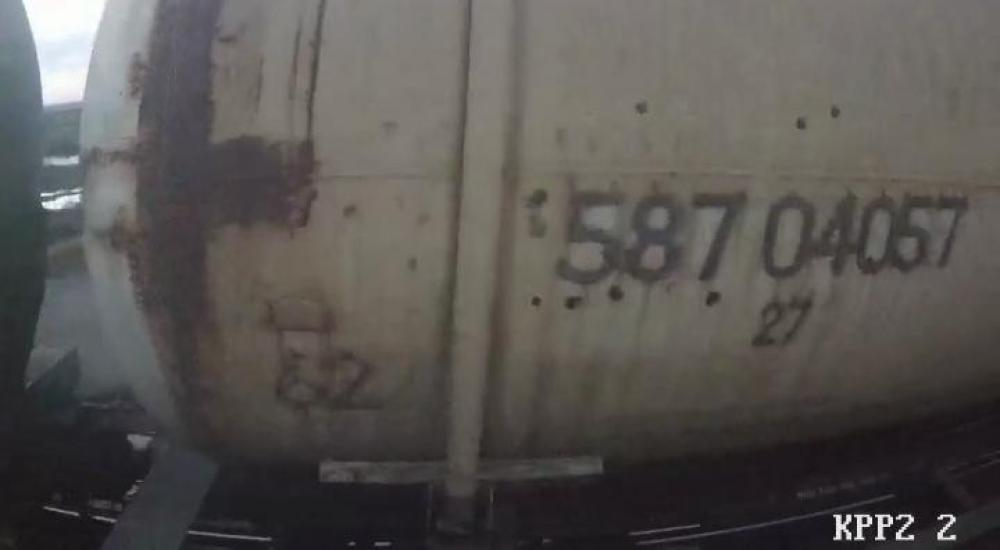Wagon-number: (554, 186, 974, 290)
